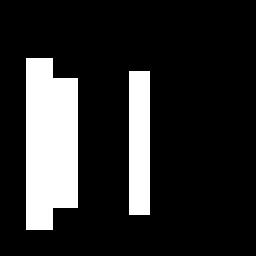person: (26, 58, 52, 229), (53, 78, 77, 207), (129, 71, 149, 214)
